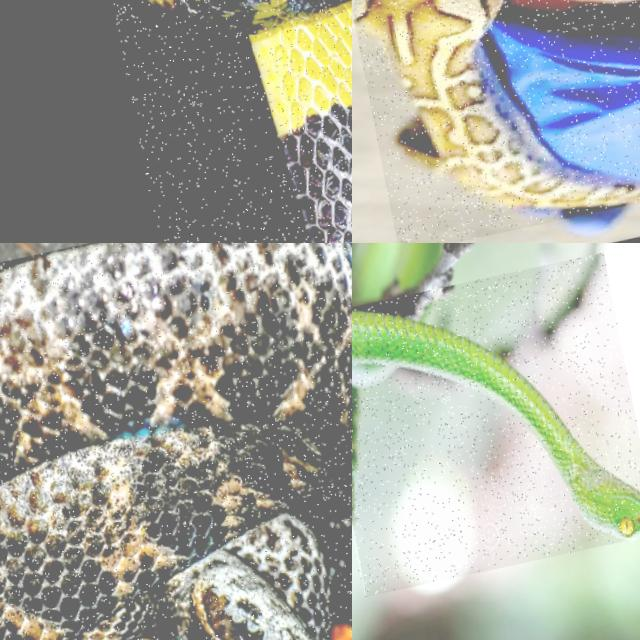Bungarus fasciatus: (148, 0, 351, 242)
Calloselasma rhodostoma: (0, 243, 351, 639)
Python bivittatus: (353, 0, 639, 209)
Trimeresurus macrops: (352, 311, 639, 540)
snake: (0, 243, 351, 639), (352, 311, 639, 540), (353, 0, 639, 209), (148, 0, 351, 242)
